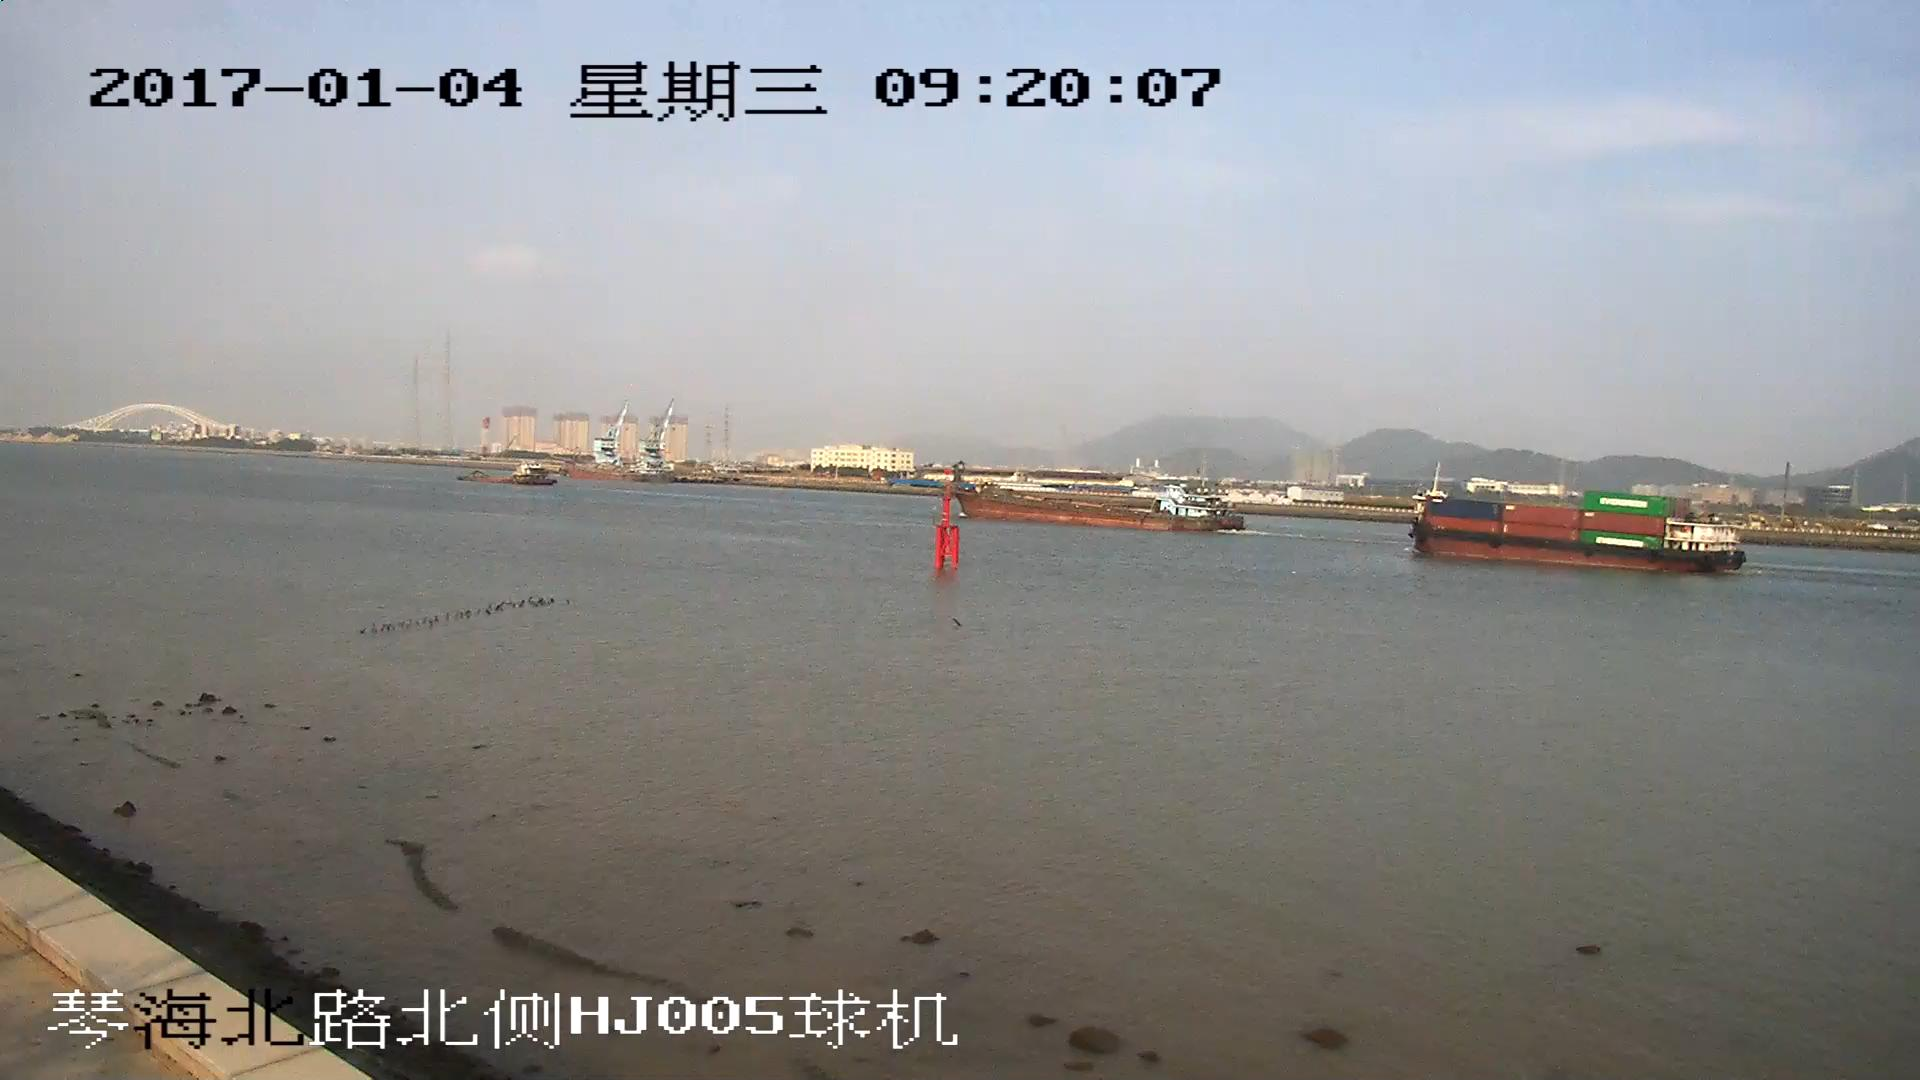bulk cargo carrier: (900, 472, 1244, 531)
container ship: (1412, 488, 1740, 571)
